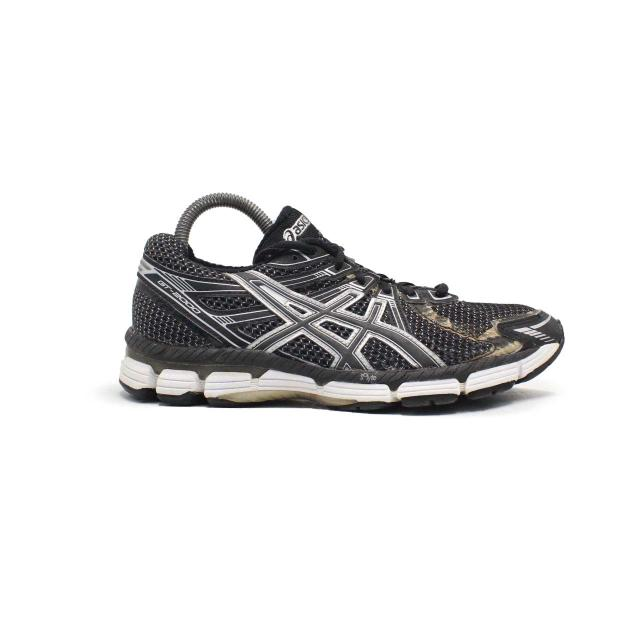heel: (132, 233, 245, 349)
midsole: (117, 313, 569, 413)
uppersole: (223, 209, 531, 370)
